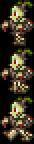zombie: (0, 95, 34, 144), (0, 47, 34, 94), (0, 0, 34, 46)
